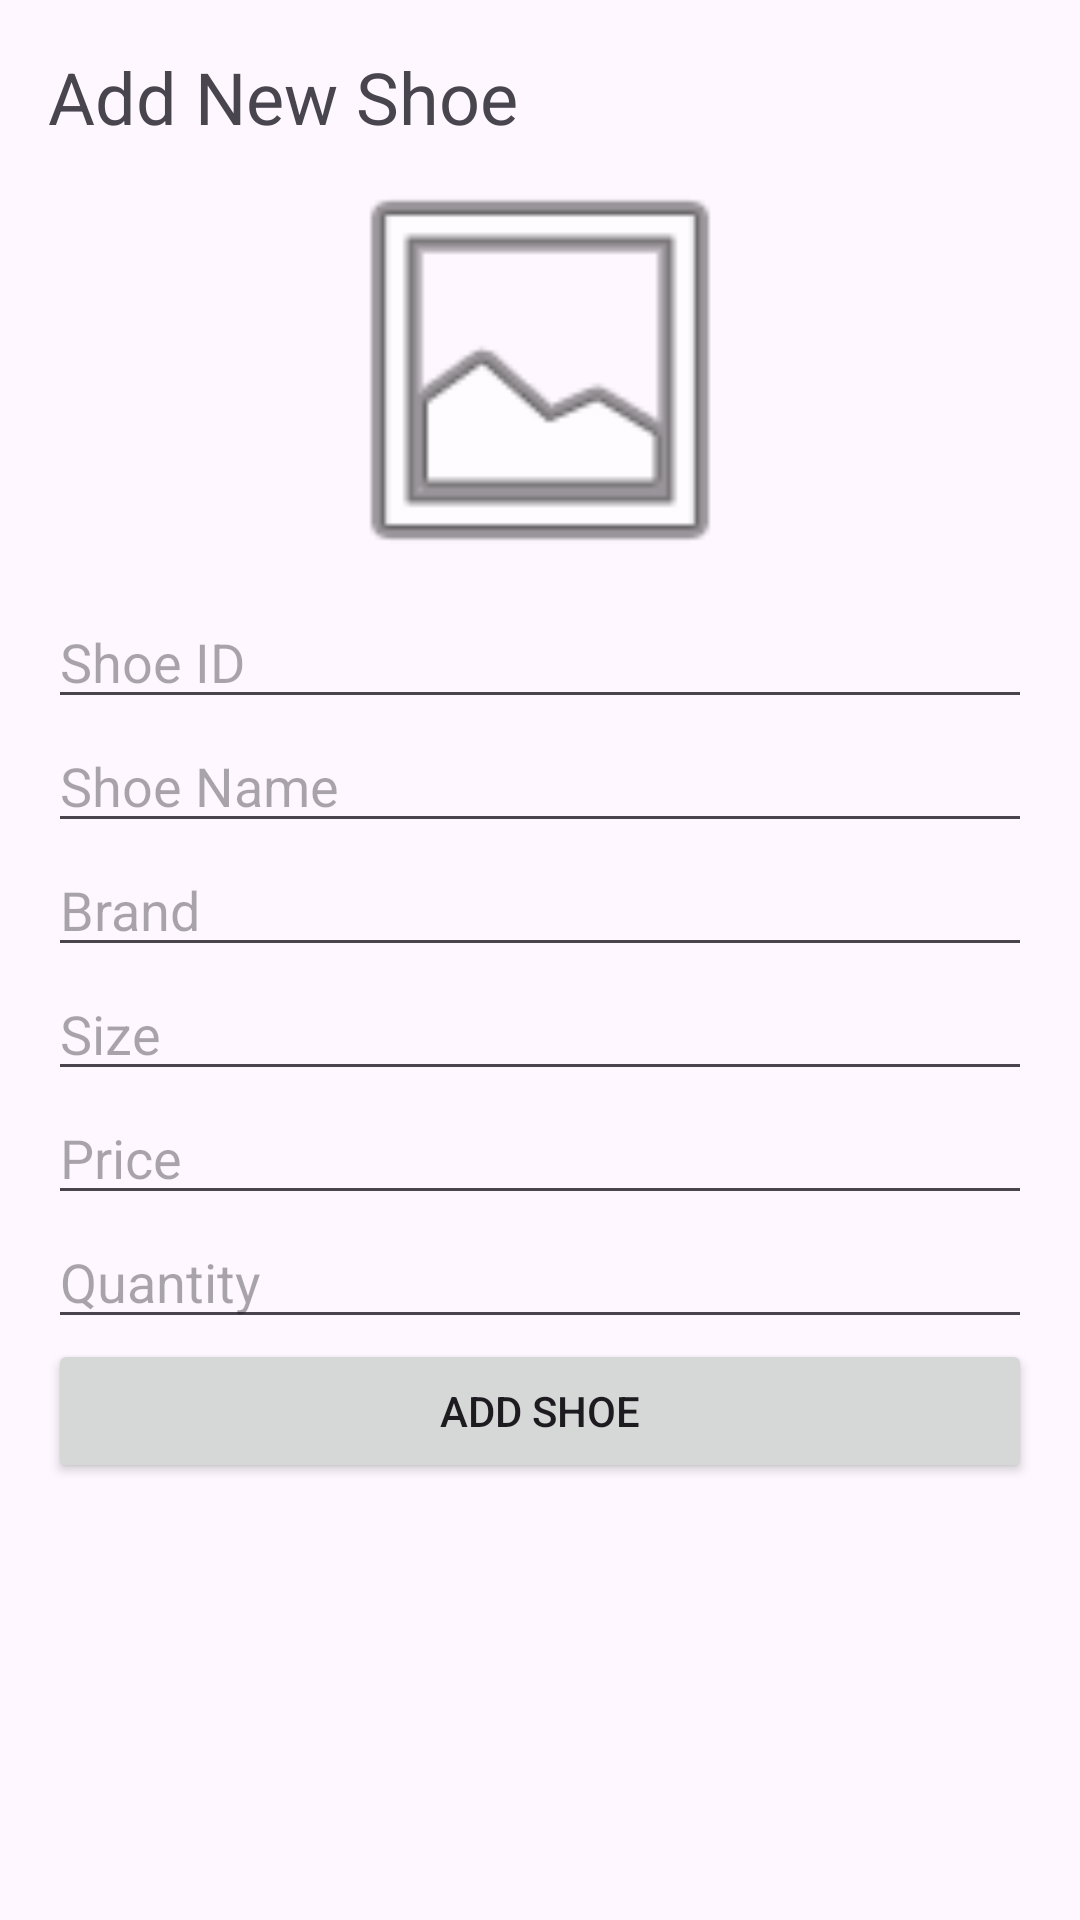

Point at icon controls on the screen. Image size 1080 x 1920, points as (x=x, y=y).
Choose Shoe Image: (x=540, y=370)
